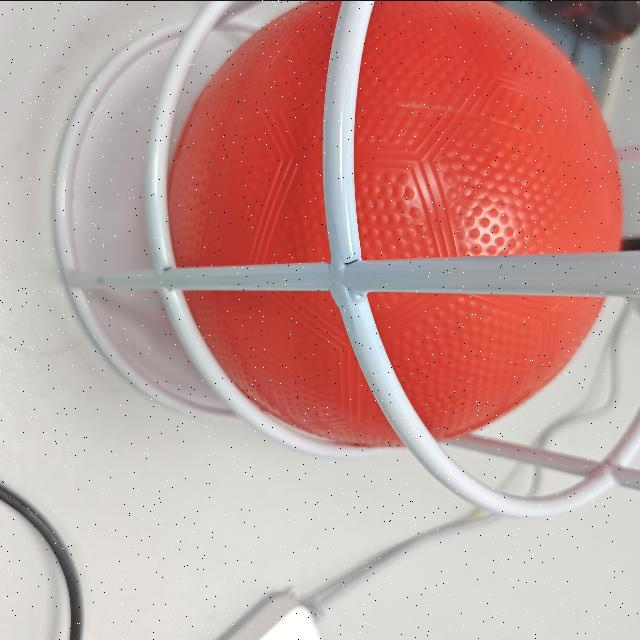R: (159, 0, 623, 448)
S: (36, 1, 640, 506)
